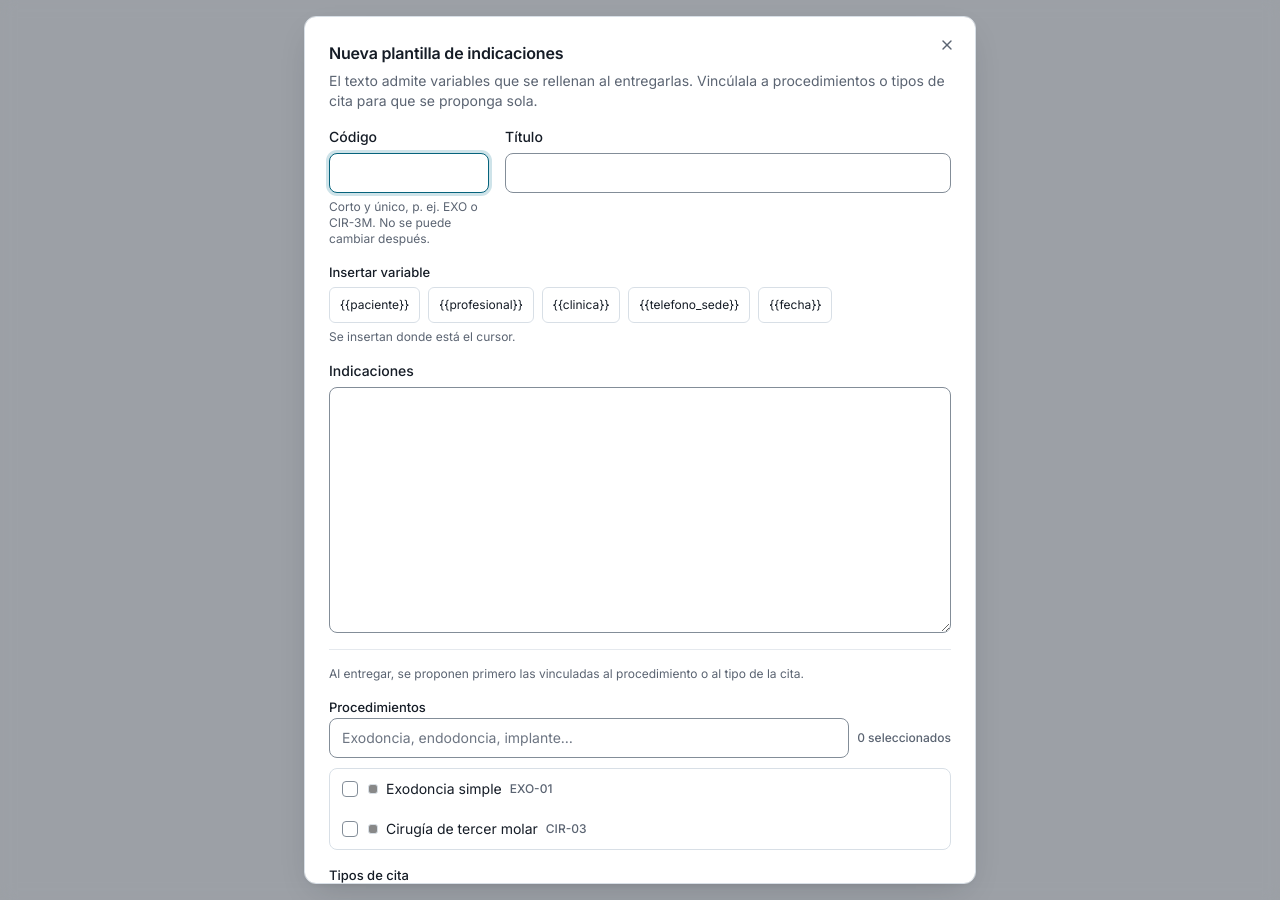
Scenario: PostOpTemplateFormModal › muestra el error de la API dentro del modal
The image size is (1280, 900).
In the field labelled "Código": (409, 173) [329, 153, 489, 193], type "EXO"
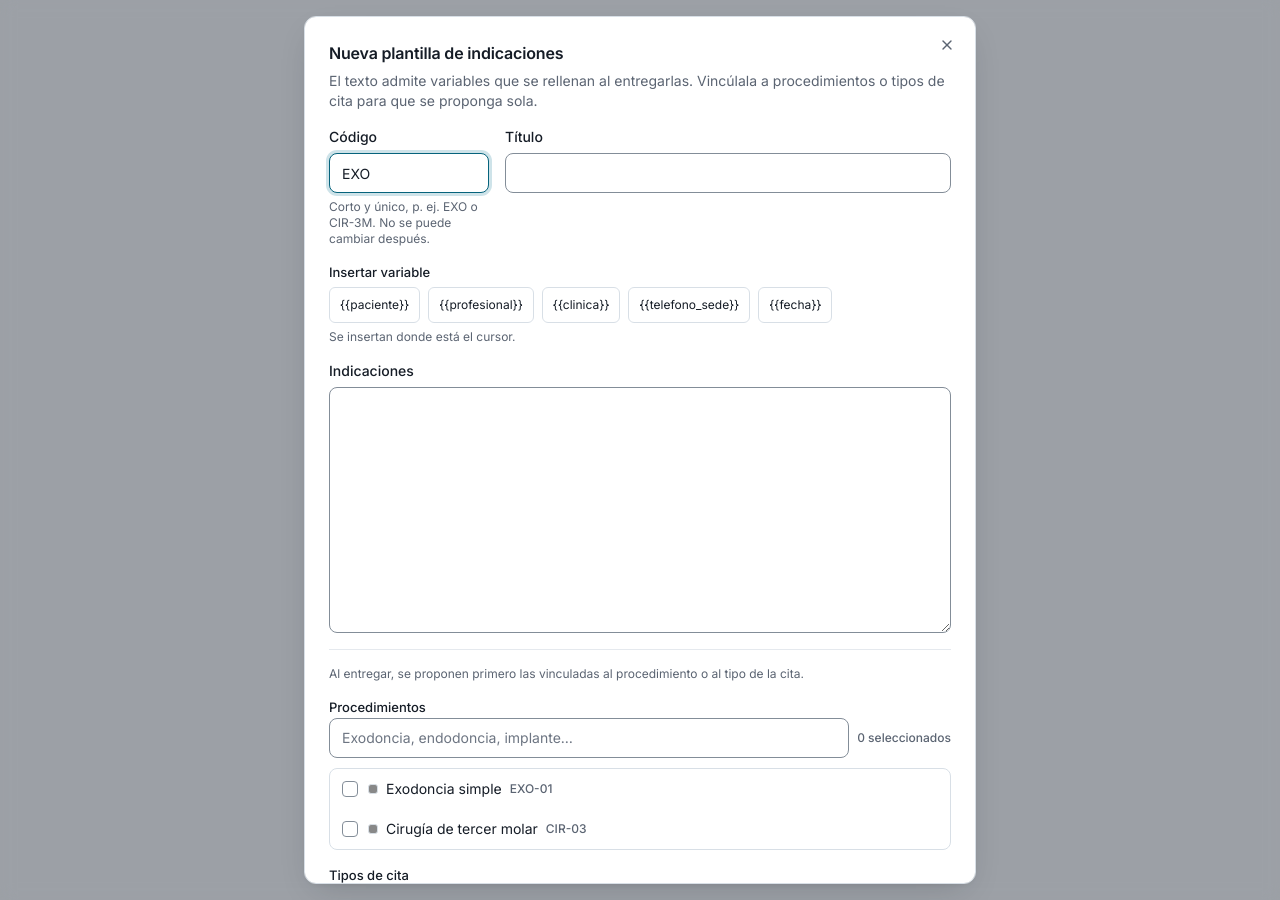
In the field labelled "Título": (728, 173) [505, 153, 951, 193], type "X"
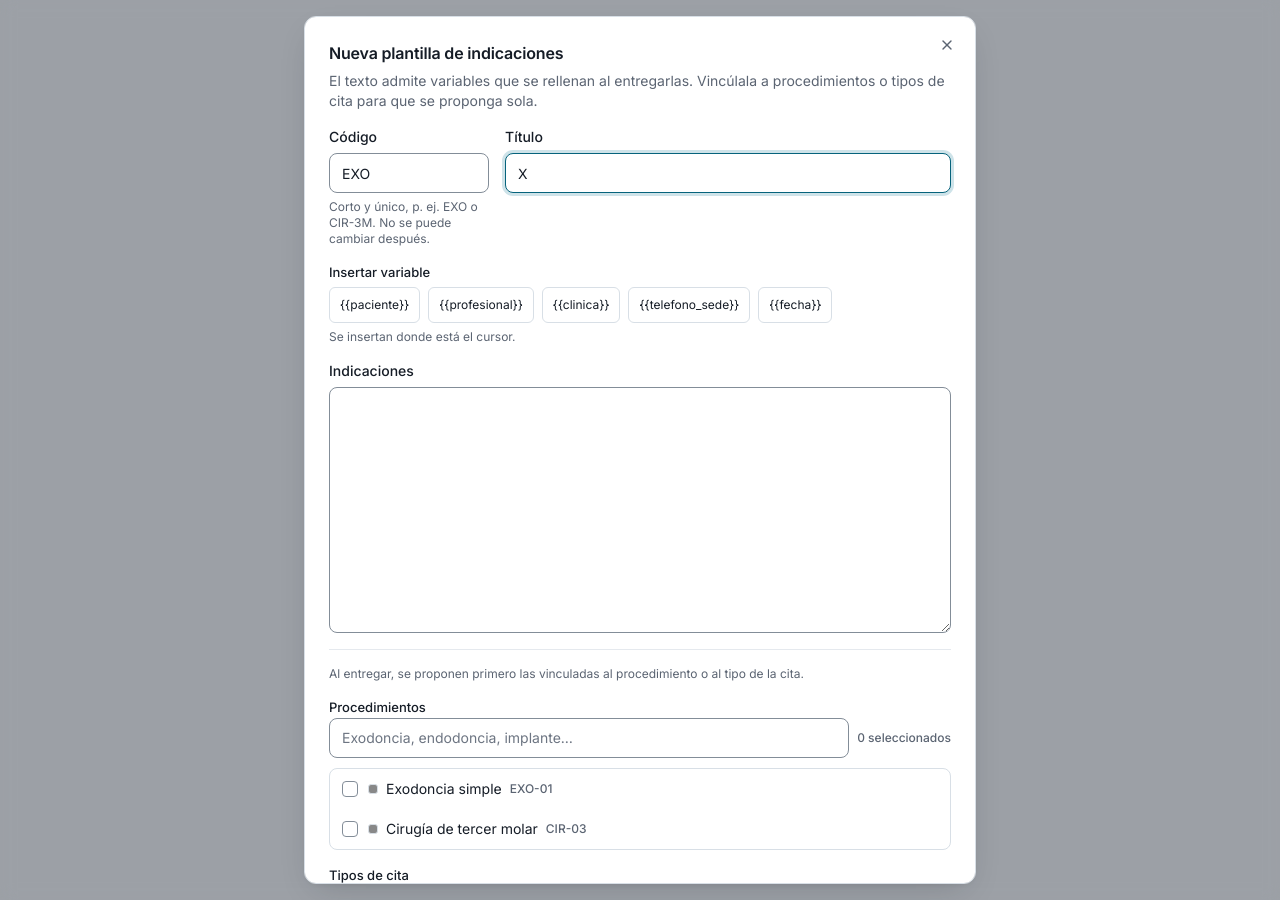
In the text box labelled "Indicaciones": (640, 510) [329, 387, 951, 632], type "Texto"
(page scrolled)
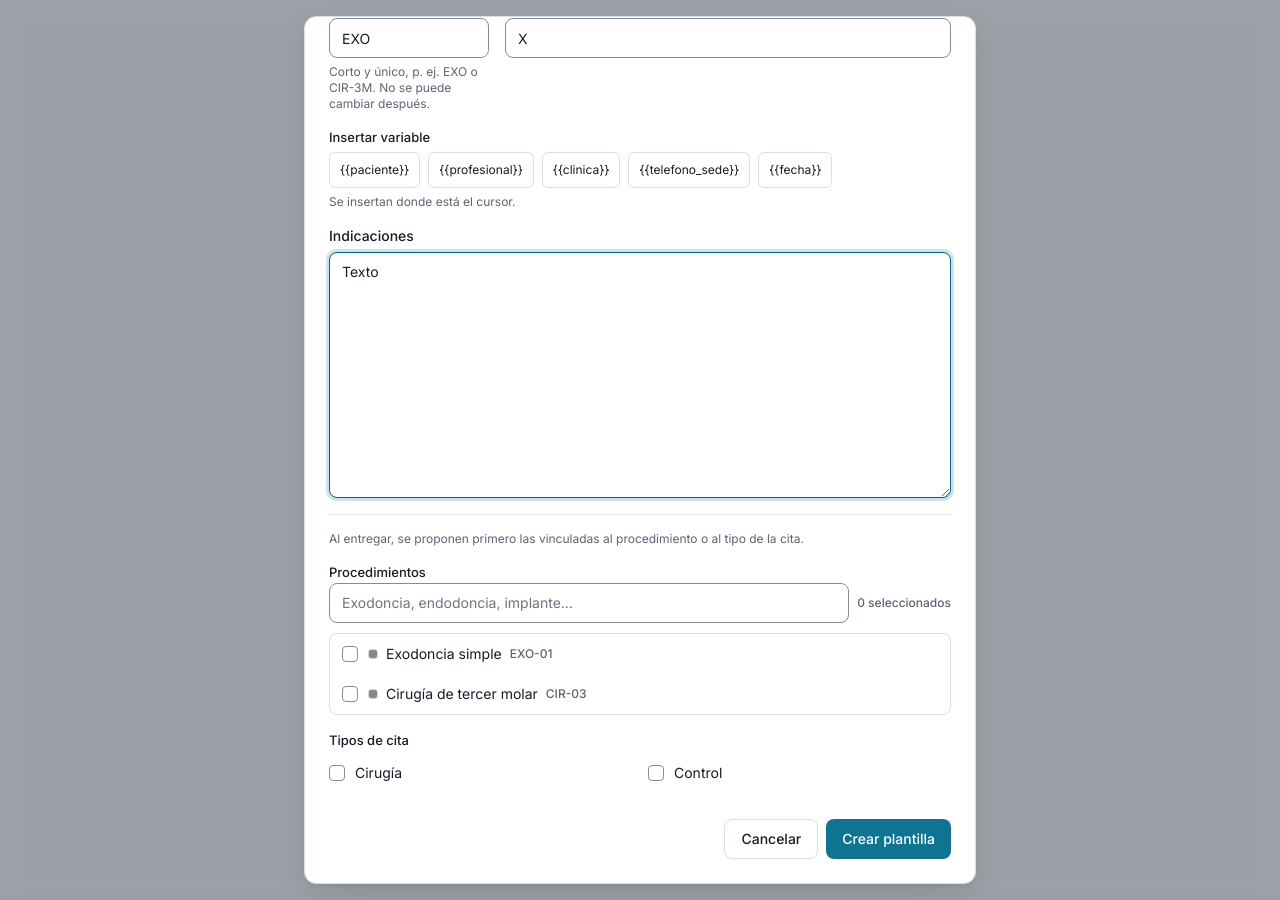
Click the button "Crear plantilla": (889, 838) [826, 818, 951, 858]
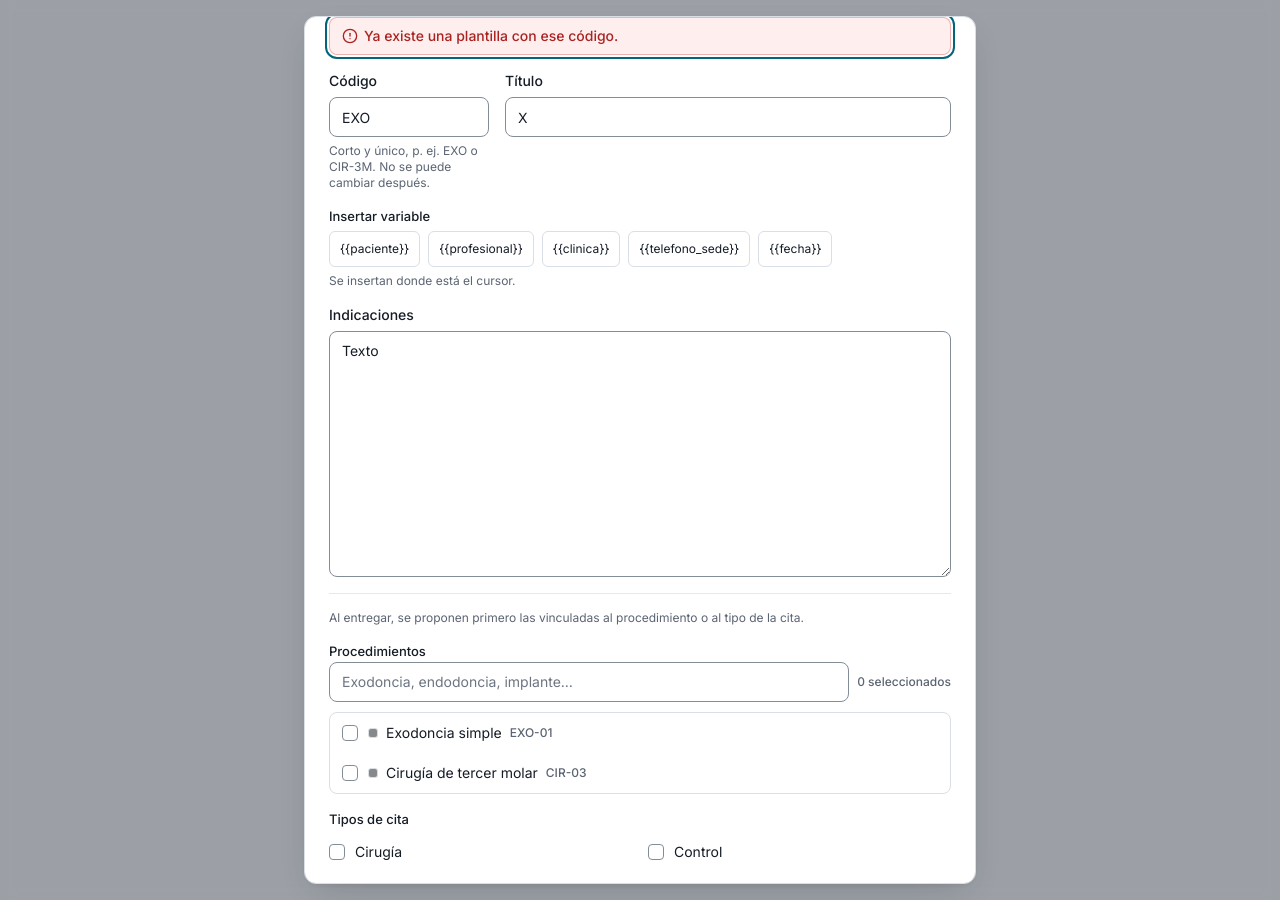
Expected: the message shows "Ya existe una plantilla", [364, 27, 618, 44]
